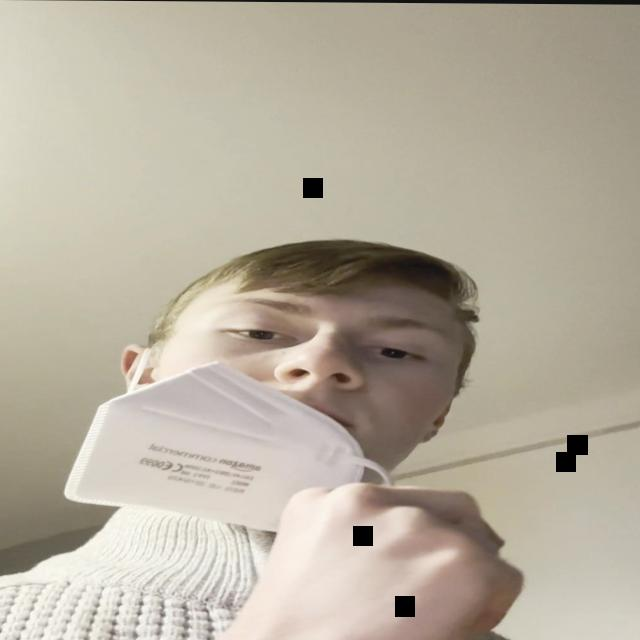NO-Mask: (155, 261, 467, 496)
